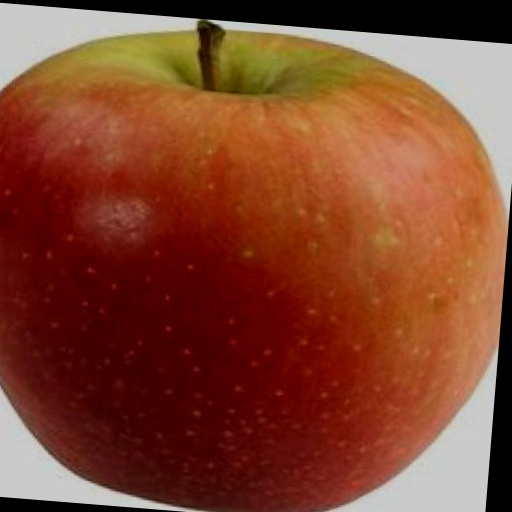fruit: (0, 23, 507, 512)
